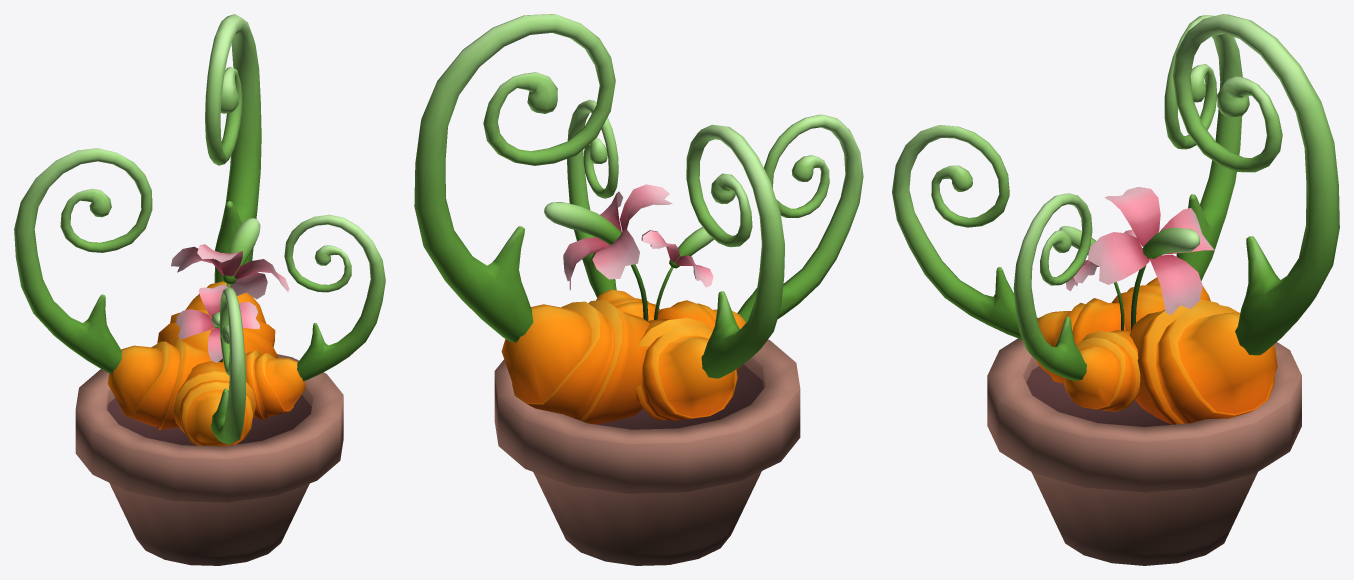
File: wp_wPot_4.fbx
3 renders of one model, left to right at view 1: azimuth 30°, elevation 25°; view 2: azimuth 150°, elevation 25°; view 3: azimuth 270°, elevation 25°, orthographic. The views are drawn at different scales.
Visible parts, largest first — view 1: w_pl4; view 2: w_pl4; view 3: w_pl4.
Part boxes in pixels (x1,y1,x2,y2): w_pl4: (14,14,385,565); w_pl4: (414,14,863,565); w_pl4: (892,14,1339,565).
Size of the model in its own units: 127 by 201 by 149.
